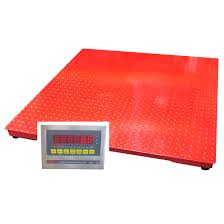Industrial Scale: (4, 47, 220, 171)
